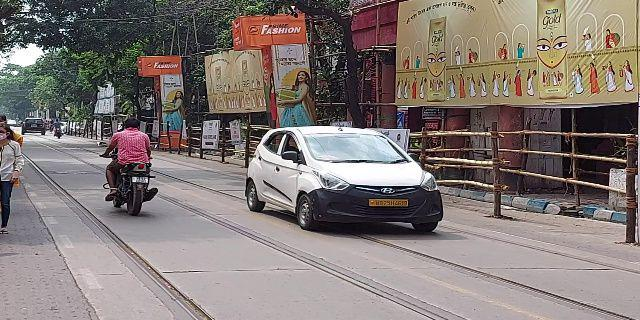Car: (244, 123, 451, 237)
Motorbike: (99, 115, 160, 223)
